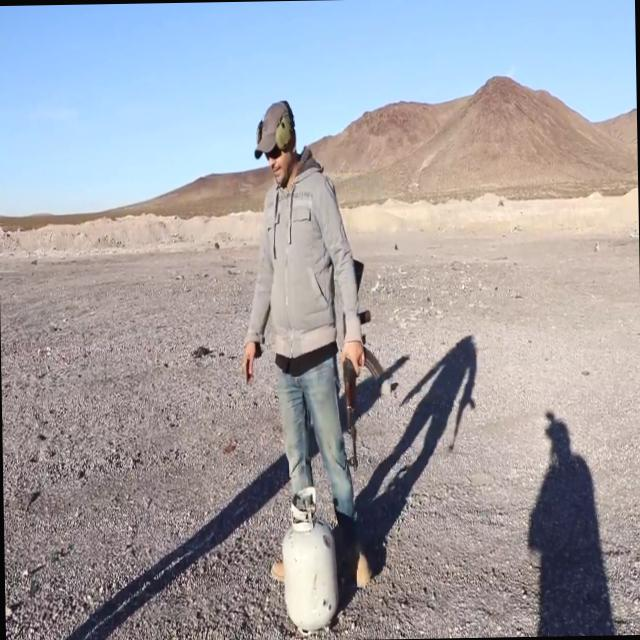long weapon: (332, 242, 397, 480)
